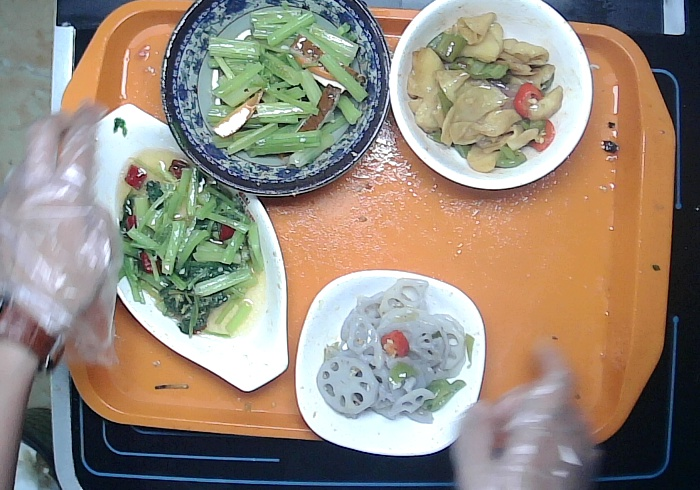ZNLD-Qing_Hua_Wan: (155, 1, 397, 201)
ZNLD-Si_Fang_Wan: (287, 267, 491, 469)
ZNLD-Tang_Wan: (380, 1, 599, 201)
ZNLD-Yu_Pan: (77, 100, 294, 398)
